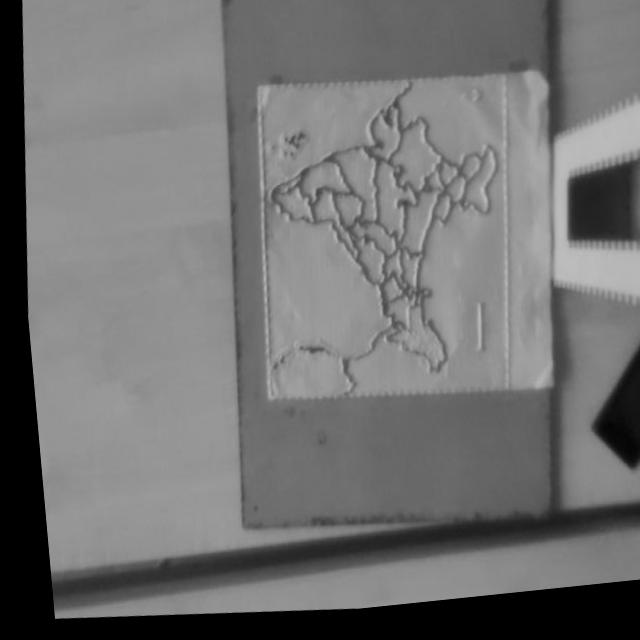map: (256, 75, 518, 398)
